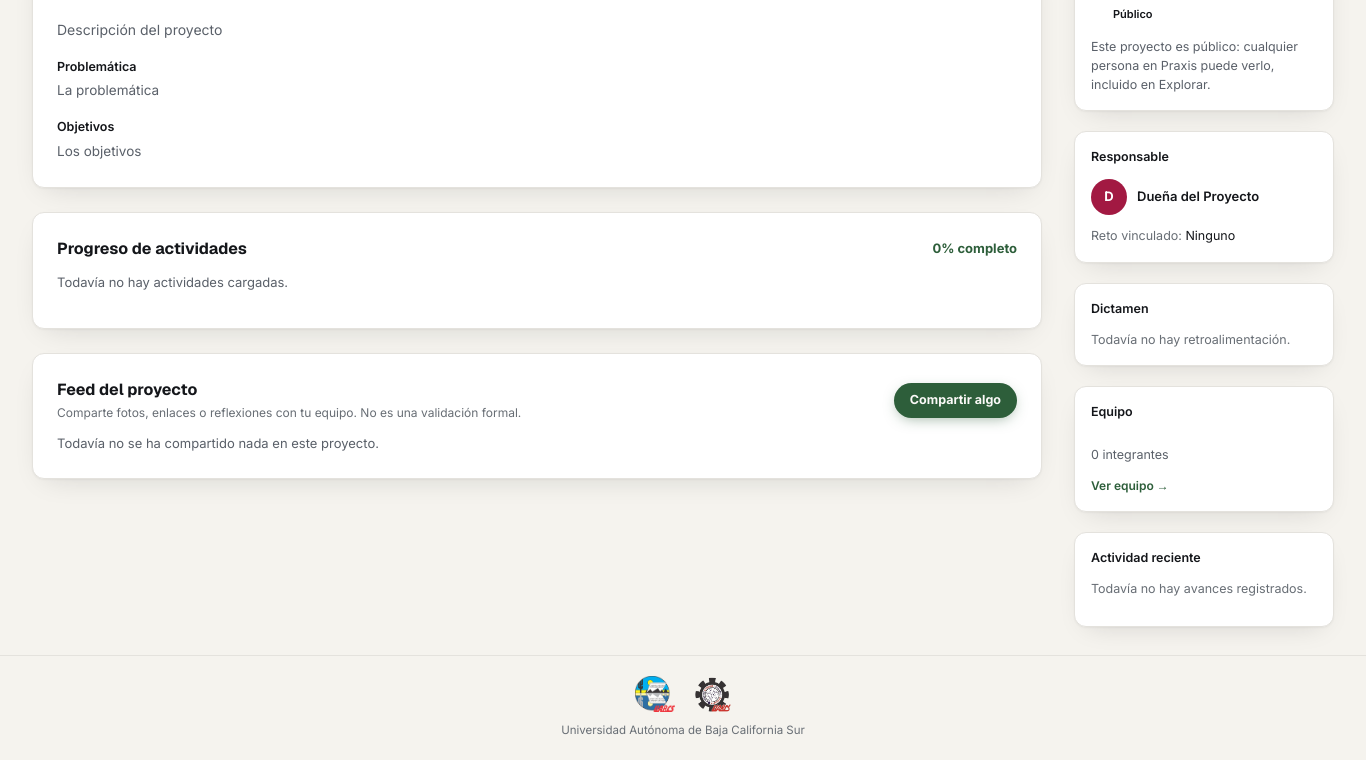
Scenario: ProjectDetail — progress update: required text field hint (replaces native browser validation) › blocks submission and shows a custom hint when the text is empty, then succeeds once filled
Later steps or results of the test are not shown.
(page scrolled)
Click the button "Compartir algo" at x=955, y=400, box [894,383,1017,418]
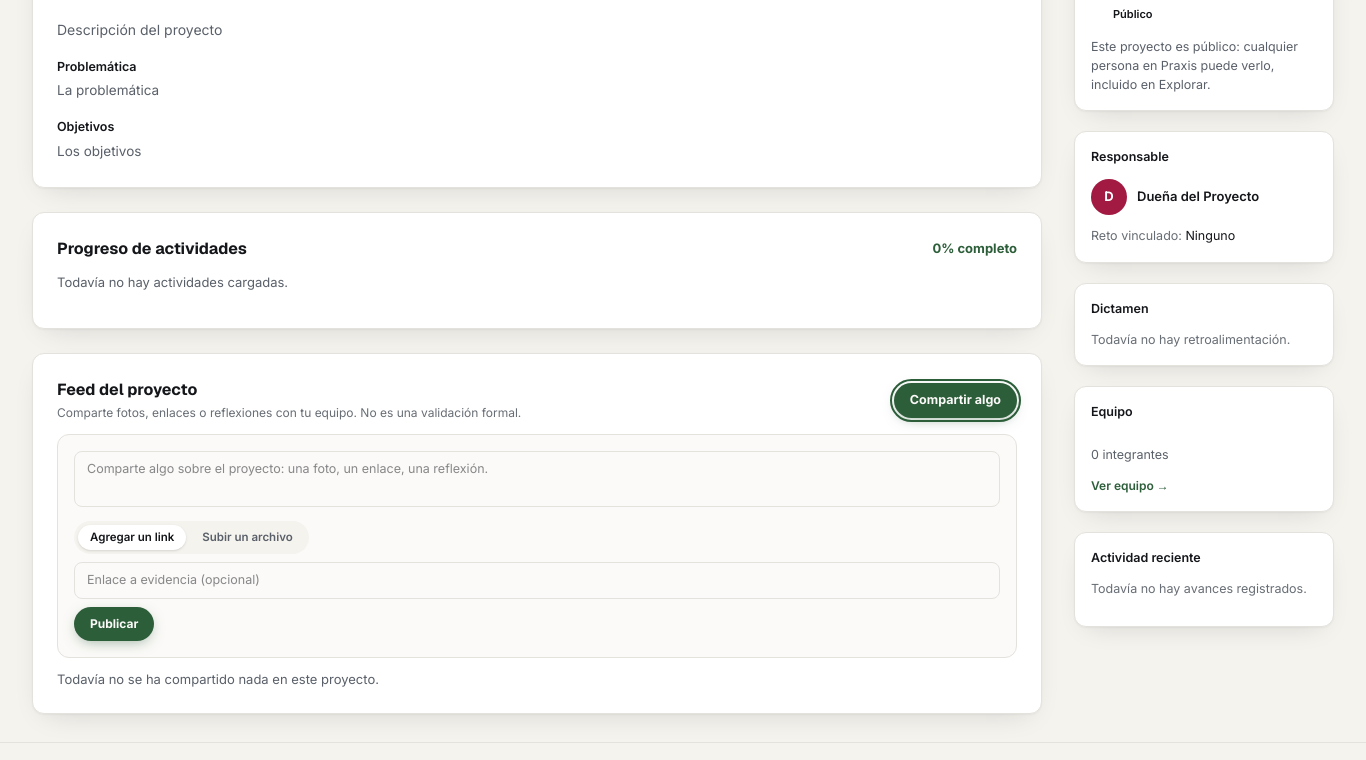
Click the button "Publicar" at x=114, y=624, box [74,607,154,641]
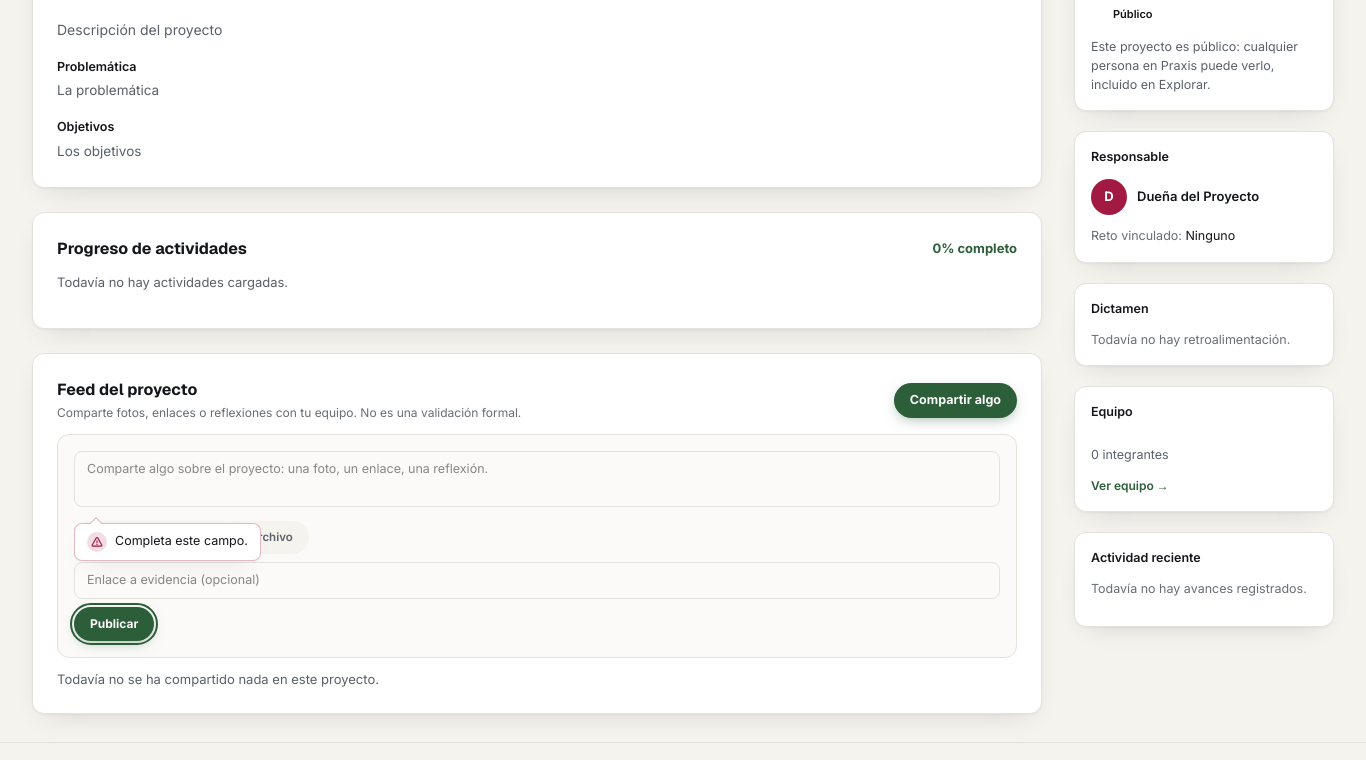
expect the text "Completa este campo." is shown: met, box [115,532,248,549]
